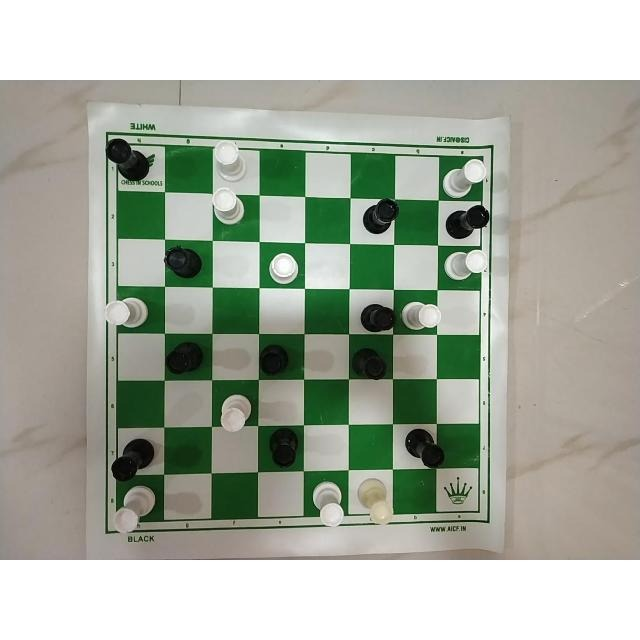black-rook: (107, 432, 158, 482), (100, 138, 153, 183), (400, 426, 448, 470), (159, 338, 208, 379), (357, 198, 401, 242), (263, 426, 302, 472), (162, 243, 206, 283), (444, 202, 491, 238), (354, 297, 398, 335), (254, 342, 298, 379), (349, 344, 388, 383)
white-rook: (110, 487, 162, 537), (441, 156, 489, 198), (355, 477, 395, 527), (308, 478, 347, 529), (209, 137, 252, 183), (443, 246, 493, 285), (102, 294, 151, 330), (400, 295, 444, 332), (208, 186, 248, 226), (219, 390, 253, 434), (265, 249, 298, 286)
